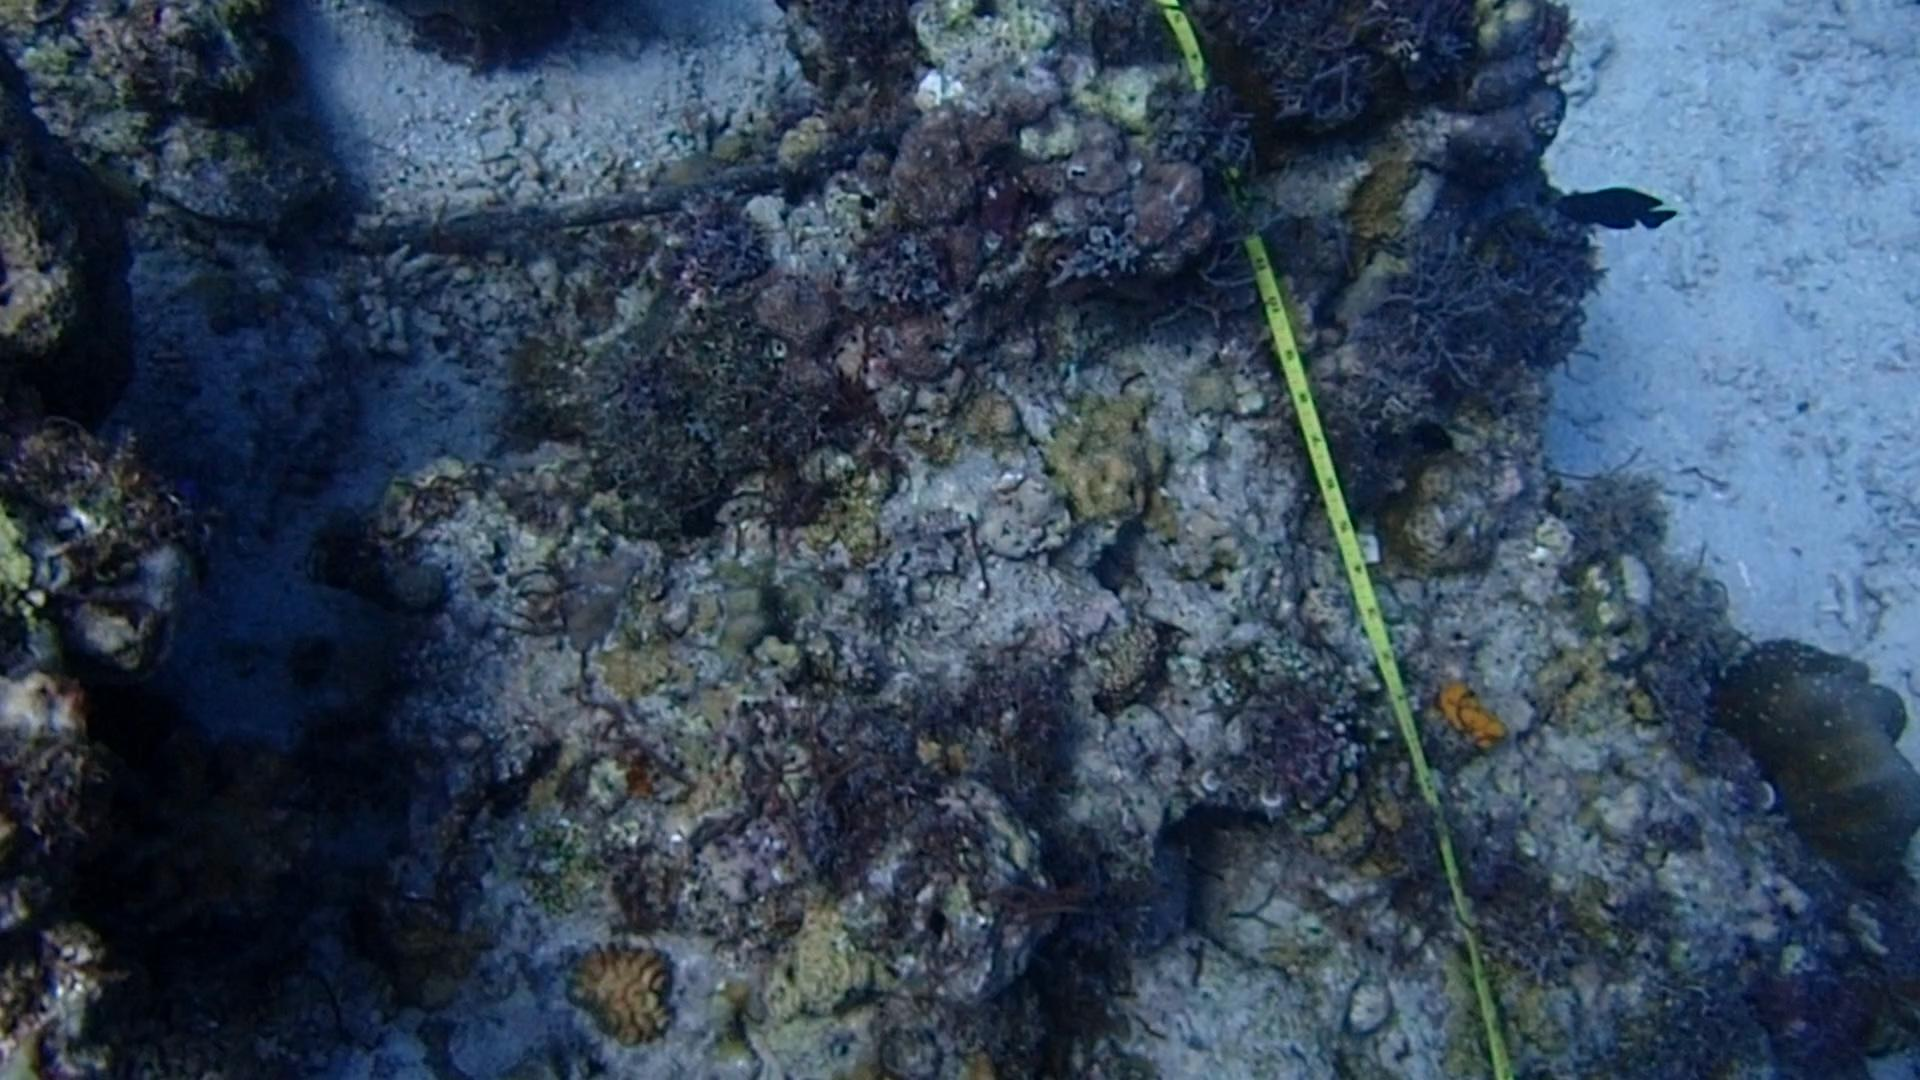Dark Fish: (1540, 175, 1689, 247)
